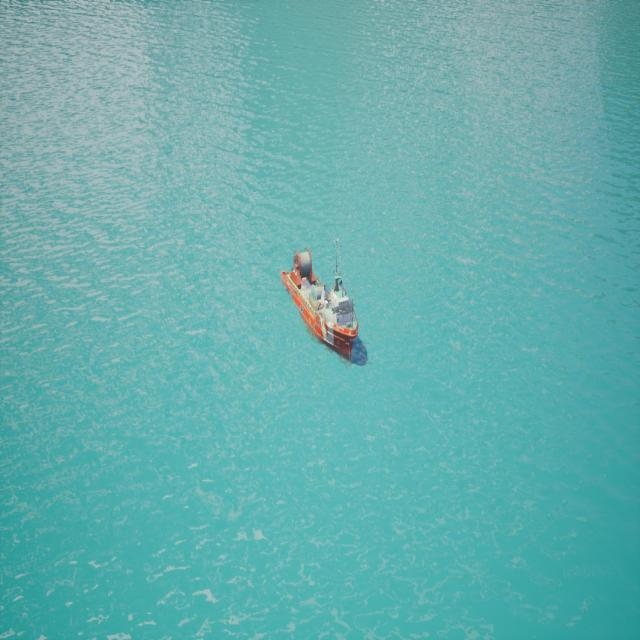tug boat: (280, 254, 363, 368)
